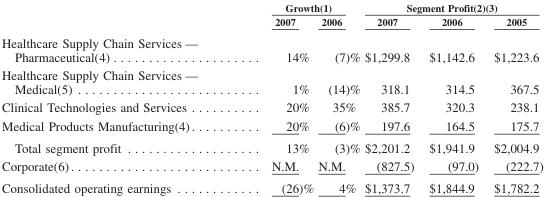table: (0, 1, 542, 194)
table column: (0, 1, 234, 194), (234, 1, 315, 194), (421, 1, 485, 194), (361, 1, 421, 194), (485, 1, 542, 194), (315, 1, 361, 194)
table column header: (0, 1, 542, 31)
table row: (0, 31, 542, 65), (0, 65, 542, 98), (0, 116, 542, 136), (0, 136, 542, 156), (0, 156, 542, 176), (0, 98, 542, 116), (0, 176, 542, 194), (0, 14, 542, 31), (0, 1, 542, 14)
table spanning cell: (361, 1, 542, 14), (234, 1, 361, 14)
